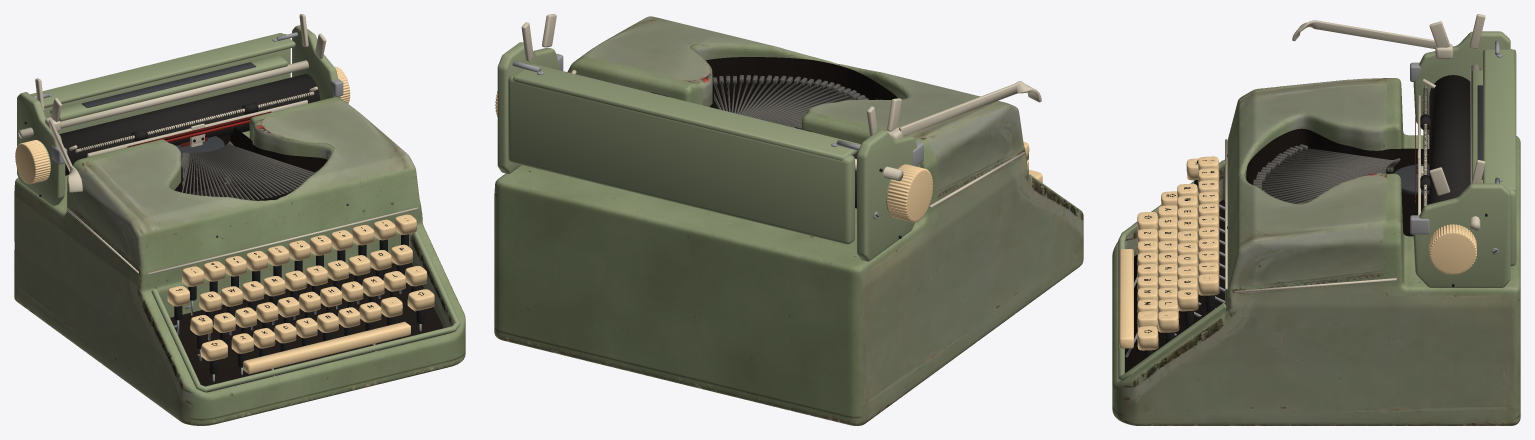
The model's file is typewriter.glb.
3 renders of one model, left to right at view 1: azimuth 30°, elevation 25°; view 2: azimuth 150°, elevation 25°; view 3: azimuth 270°, elevation 25°, orthographic. The views are drawn at different scales.
Visible parts, largest first — view 1: shell, platen, tray, carriage_back_top, kb_bead, cap_space, frame_-1, inner_frame, carriage_back, basket_liner, rail, frame_1 (+10 smaller); view 2: shell, carriage_back, carriage_back_top, frame_-1, basket_liner, frame_1, knob_-1, lever_tube; view 3: shell, frame_1, platen, carriage_back_top, basket_liner, frame_-1, knob_1, tray, cap_space, kb_bead, lever_tube, inner_frame (+11 smaller).
Boxes of the visible parts, x1,y1,x2,y2 form: shell: (14, 97, 465, 425); platen: (59, 74, 320, 175); tray: (170, 262, 446, 392); carriage_back_top: (30, 33, 295, 108); kb_bead: (151, 229, 460, 392); cap_space: (243, 321, 410, 374); frame_-1: (17, 92, 65, 205); inner_frame: (50, 54, 287, 121); carriage_back: (44, 34, 290, 133); basket_liner: (174, 127, 327, 200); rail: (18, 56, 325, 138); frame_1: (292, 25, 340, 100); shell: (494, 16, 1083, 425); carriage_back: (508, 73, 854, 244); carriage_back_top: (513, 63, 860, 160); frame_-1: (857, 130, 920, 261); basket_liner: (706, 57, 897, 113); frame_1: (497, 42, 560, 173); knob_-1: (887, 164, 933, 222); lever_tube: (899, 81, 1041, 136); shell: (1112, 78, 1520, 425); frame_1: (1413, 183, 1510, 287); platen: (1429, 75, 1470, 204); carriage_back_top: (1483, 49, 1516, 191); basket_liner: (1246, 128, 1429, 236); frame_-1: (1413, 31, 1510, 134); knob_1: (1429, 224, 1476, 274); tray: (1125, 199, 1224, 372); cap_space: (1119, 249, 1133, 348); kb_bead: (1118, 160, 1225, 381); lever_tube: (1292, 20, 1435, 48); inner_frame: (1472, 70, 1482, 183).
Bounding box in the file's own units: 0.4008 × 0.2702 × 0.369.
Materials: 15 (1 with a texture image).
